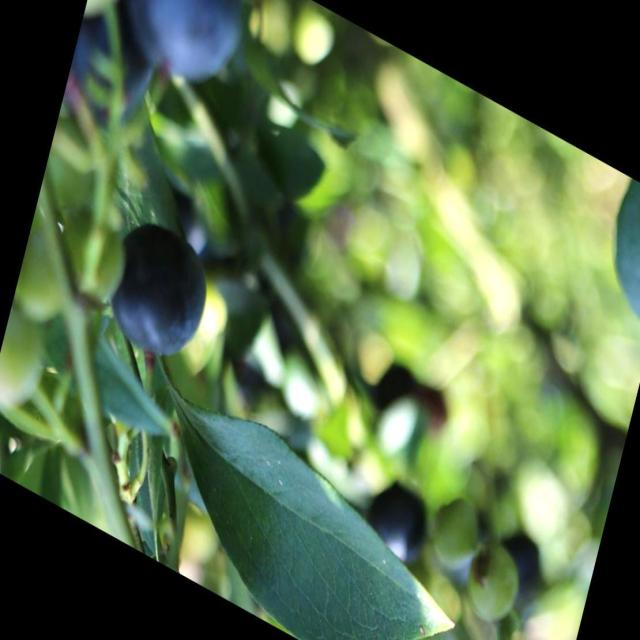blueberry: (98, 204, 216, 372), (113, 0, 258, 109), (362, 470, 437, 576)
blueberry-unripe: (462, 535, 527, 632), (424, 489, 481, 578), (381, 611, 443, 639)
